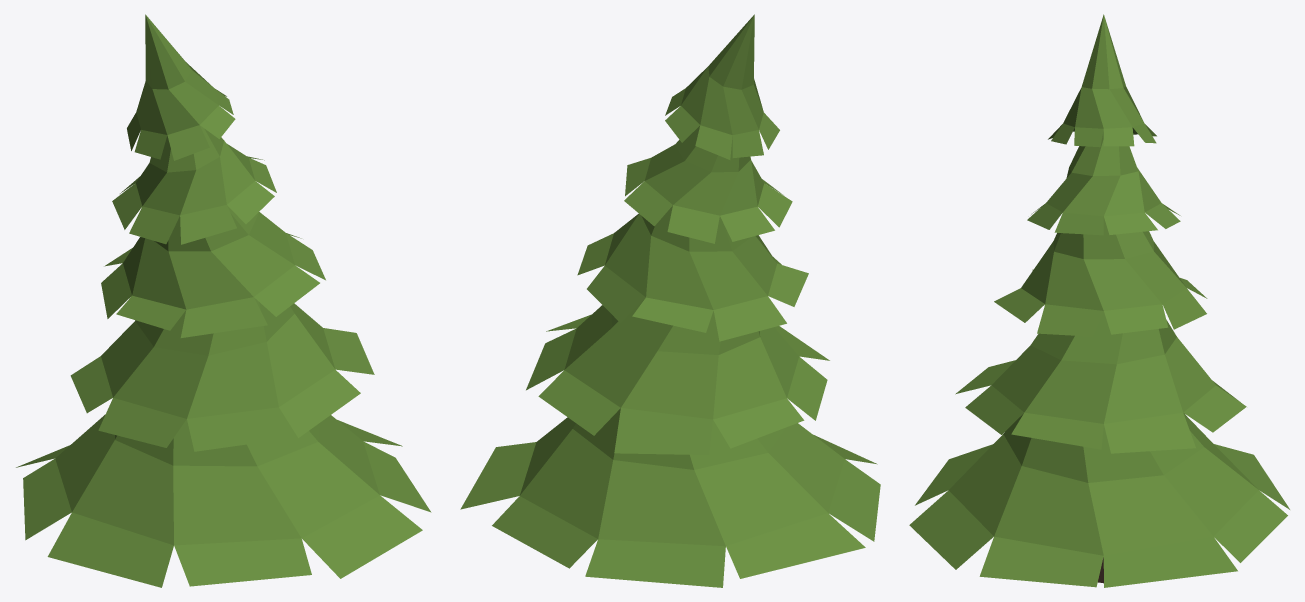
Rendered from spruce_small_2.fbx.
3 views of the same model, side by side, from view 1: azimuth 30°, elevation 25°; view 2: azimuth 150°, elevation 25°; view 3: azimuth 270°, elevation 25° (orthographic). The views are drawn at different scales.
Visible parts, largest first — view 1: spruce_small_2; view 2: spruce_small_2; view 3: spruce_small_2.
Part boxes in pixels (x1,y1,x2,y2): spruce_small_2: (16, 14, 431, 587); spruce_small_2: (460, 14, 880, 587); spruce_small_2: (909, 14, 1289, 587).
Size of the model in its own units: 274 by 399 by 262.
